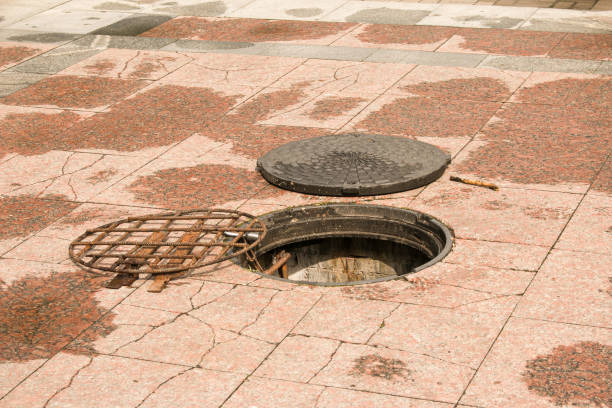open_manhole: (239, 206, 448, 281)
